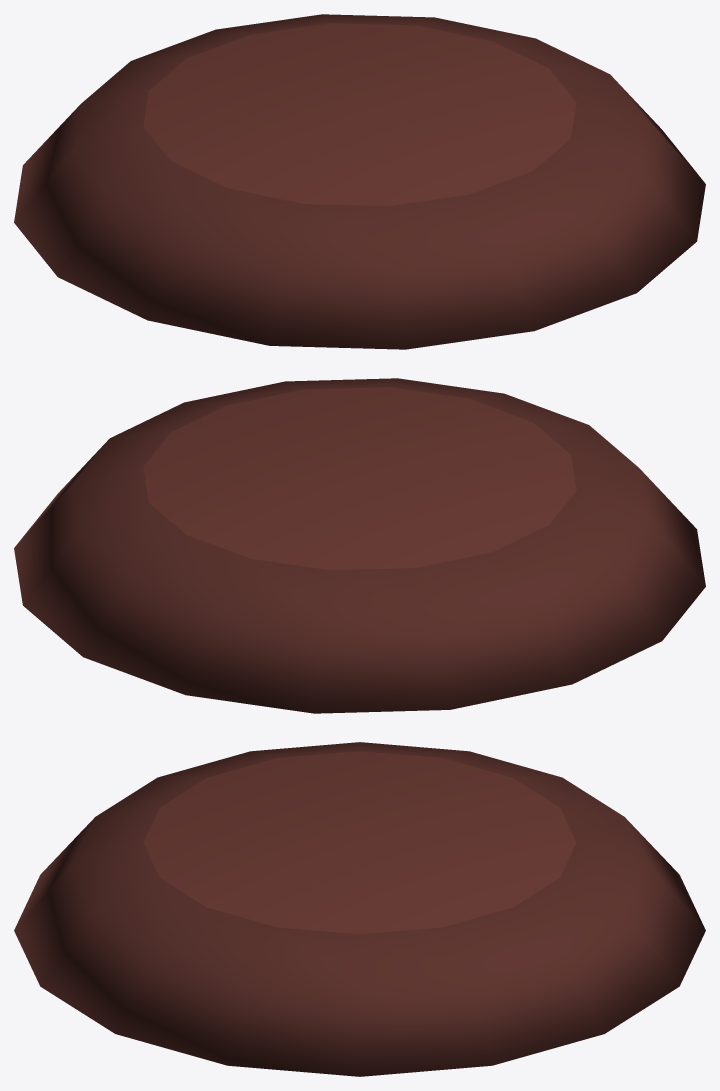
File: pumpkin_ground_patch.glb
3 renders of one model, top to bottom at view 1: azimuth 30°, elevation 25°; view 2: azimuth 150°, elevation 25°; view 3: azimuth 270°, elevation 25°, orthographic.
Parts seen in each view (by area): view 1: Sphere; view 2: Sphere; view 3: Sphere.
Boxes of the visible parts, x1,y1,x2,y2 form: Sphere: (14, 14, 705, 349); Sphere: (14, 378, 705, 713); Sphere: (14, 742, 705, 1076).
Bounding box in the file's own units: 1.7 × 0.2388 × 1.7.
